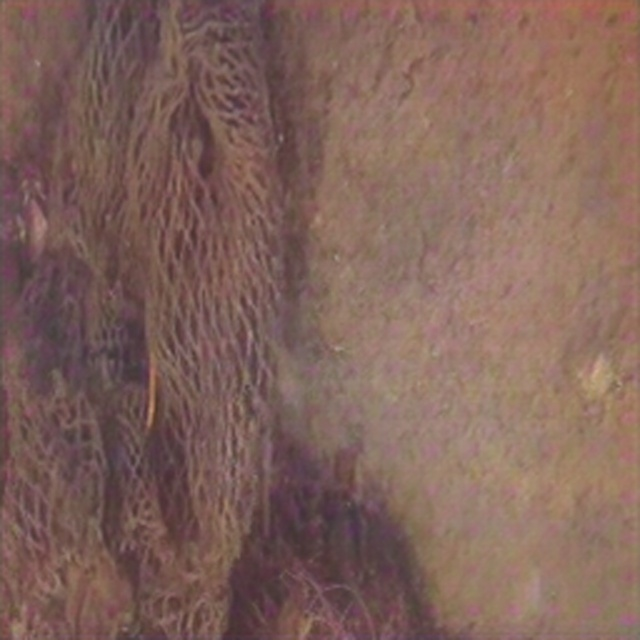mine: (0, 0, 282, 638)
